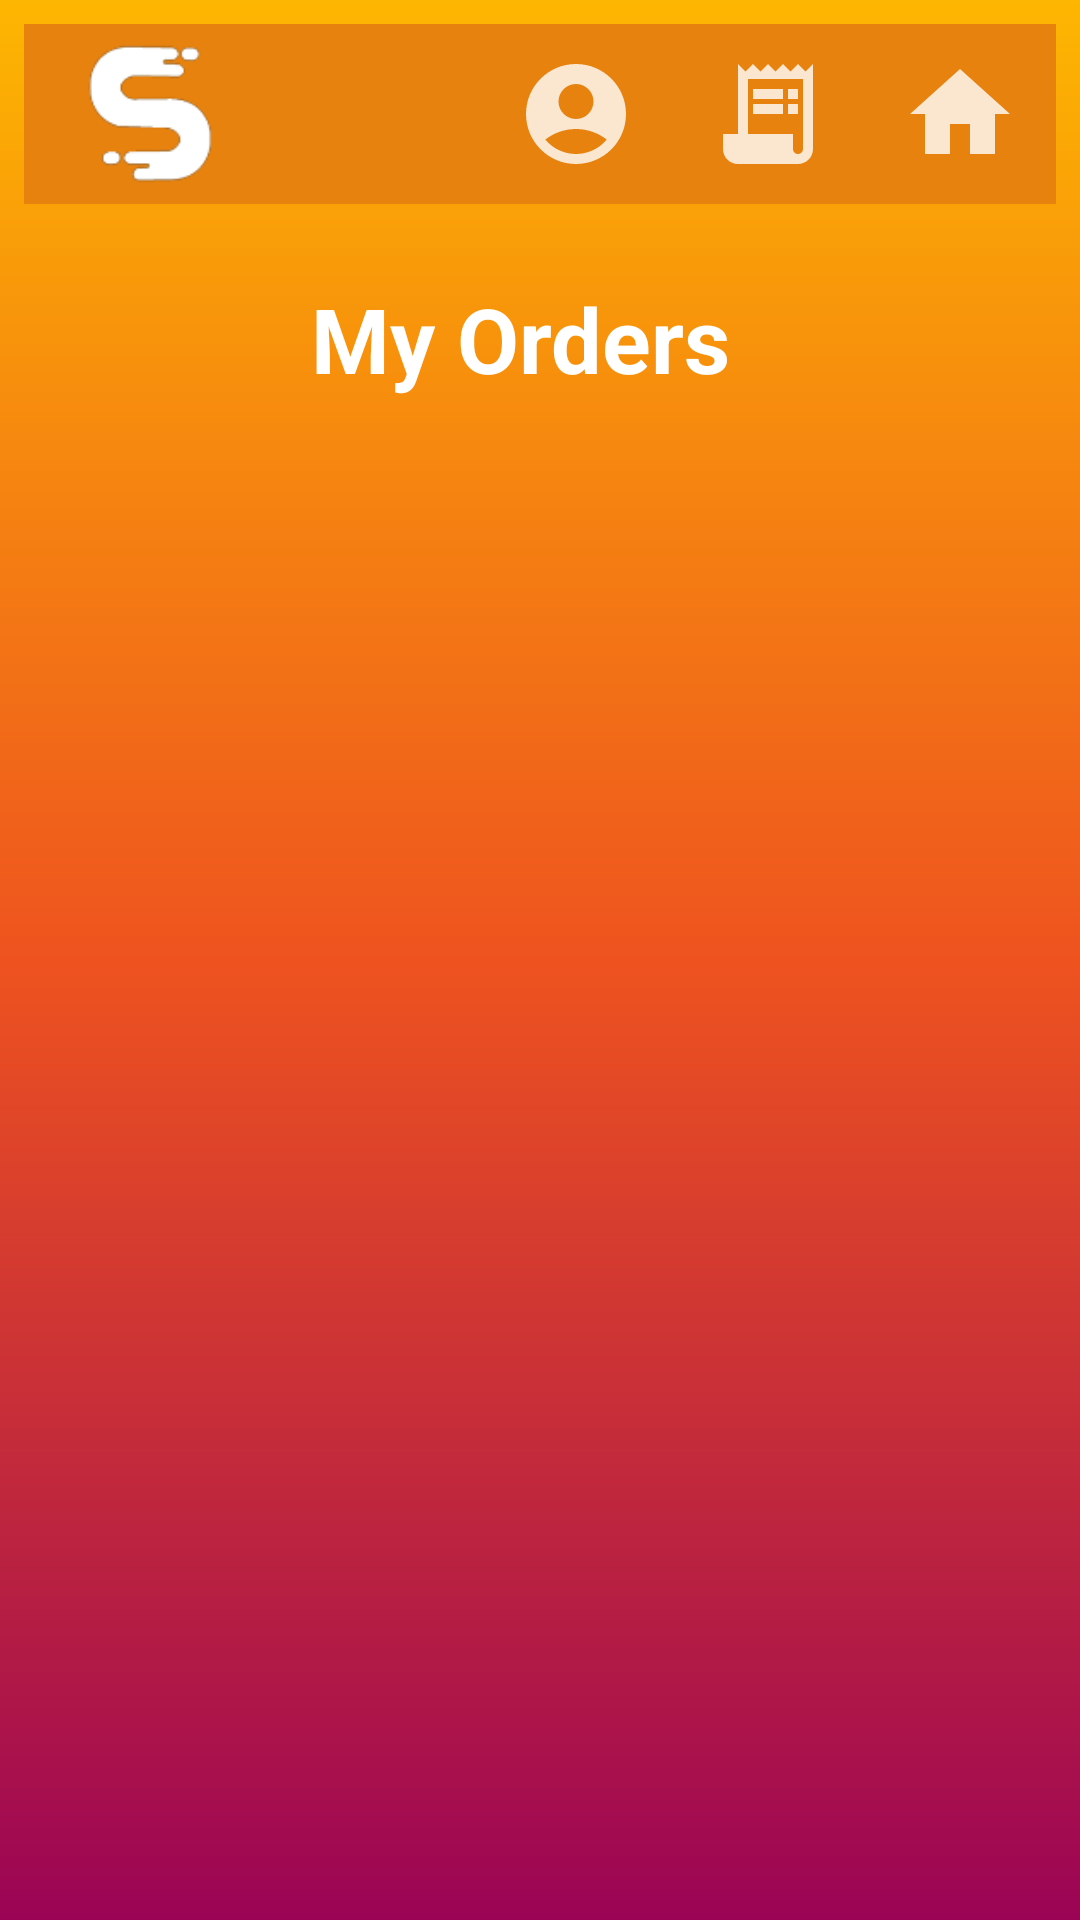

Where icons sit on this 1080*1920 app screen, as (x1, y1, x2, y2):
Accounts: (526, 64, 626, 164)
Home: (864, 24, 1056, 204)
